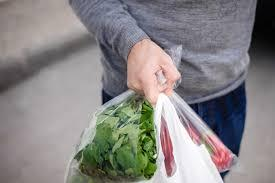Plastic bag: (66, 81, 238, 183)
